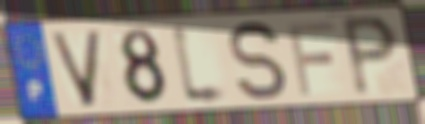8: (117, 26, 170, 108)
F: (285, 18, 339, 98)
L: (167, 19, 234, 109)
P: (338, 12, 401, 100)
S: (227, 18, 290, 104)
V: (45, 28, 106, 110)
